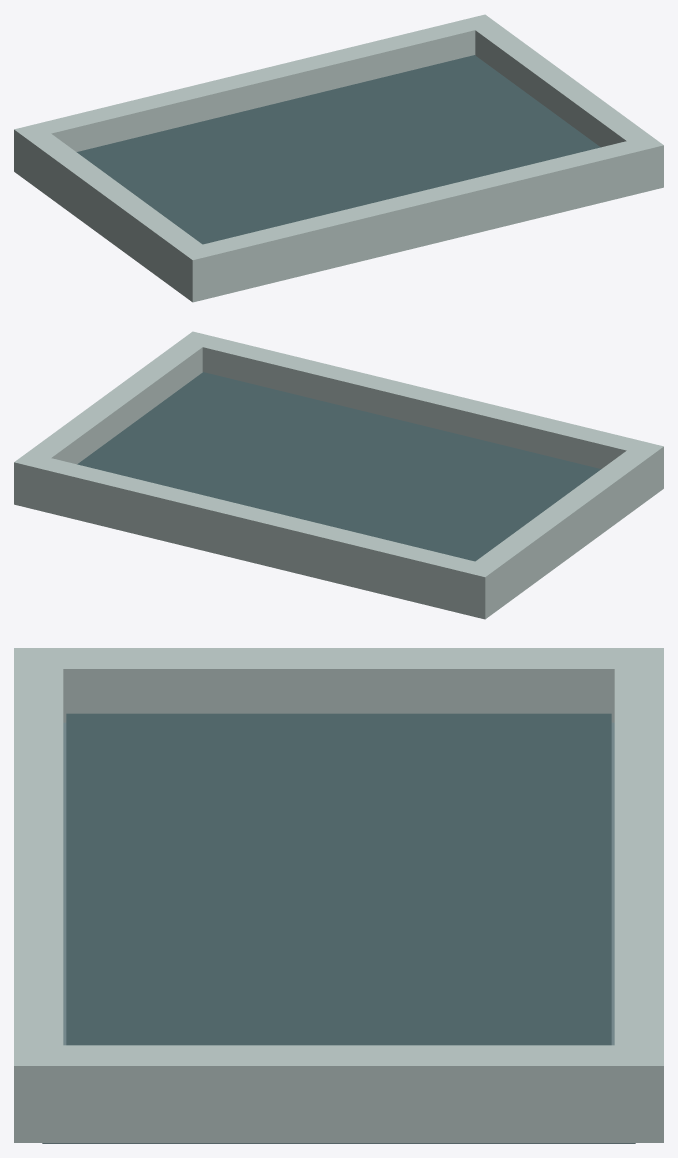
The model's file is CMU3DSurgicalTray.glb.
3 views of the same model, one above another, from view 1: azimuth 30°, elevation 25°; view 2: azimuth 150°, elevation 25°; view 3: azimuth 270°, elevation 25° (orthographic). The views are drawn at different scales.
Visible parts, largest first — view 1: tray interior, front rim, rear rim, left rim, right rim; view 2: tray interior, rear rim, front rim, left rim, right rim; view 3: tray interior, right rim, left rim, front rim, rear rim, tray base.
Boxes of the visible parts, left/top/right/bottom form: tray interior: left=76, top=55, right=600, bottom=244; front rim: left=203, top=141, right=640, bottom=296; rear rim: left=38, top=20, right=475, bottom=151; left rim: left=14, top=123, right=216, bottom=302; right rim: left=462, top=14, right=663, bottom=193; tray interior: left=77, top=372, right=601, bottom=561; rear rim: left=37, top=458, right=474, bottom=613; front rim: left=202, top=337, right=639, bottom=468; left rim: left=461, top=440, right=663, bottom=619; right rim: left=14, top=331, right=215, bottom=510; tray interior: left=66, top=713, right=611, bottom=1045; right rim: left=14, top=1045, right=663, bottom=1142; left rim: left=14, top=648, right=663, bottom=722; front rim: left=14, top=669, right=63, bottom=1045; rear rim: left=614, top=669, right=663, bottom=1045; tray base: left=42, top=722, right=635, bottom=1143.
Bounding box in the file's own units: 0.7 × 0.07 × 0.46.
